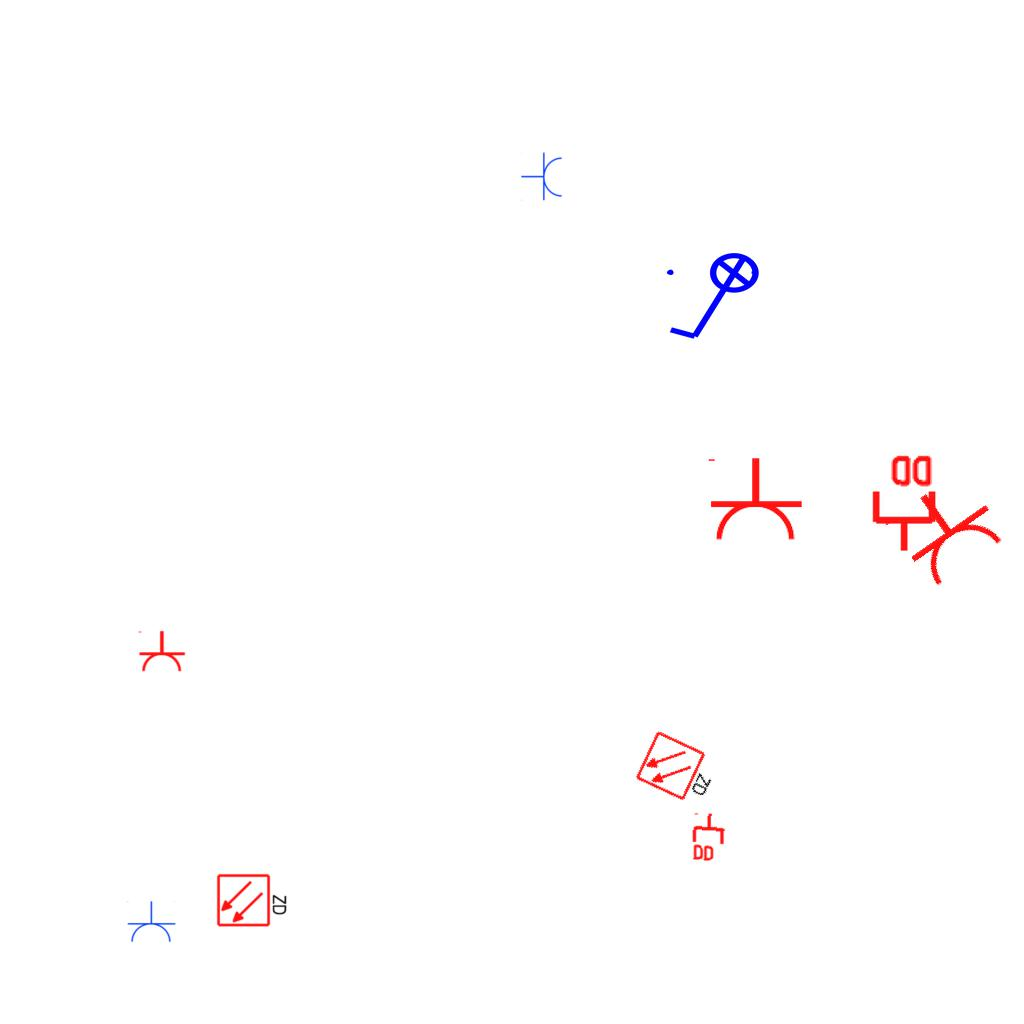Ausschalter_beleuchtet: (661, 251, 773, 347)
Datenanschluss_zweifach: (868, 451, 937, 554), (690, 810, 728, 865)
Schukosteckdose_einfach: (879, 466, 1012, 596), (704, 456, 804, 543), (126, 901, 176, 944), (136, 630, 186, 673), (521, 152, 564, 202)
ZD_Melder_in_Zwischendecke_mit_Revisionsoeffnung_mind_40_x_40_cm: (633, 727, 726, 811), (216, 871, 290, 928)
